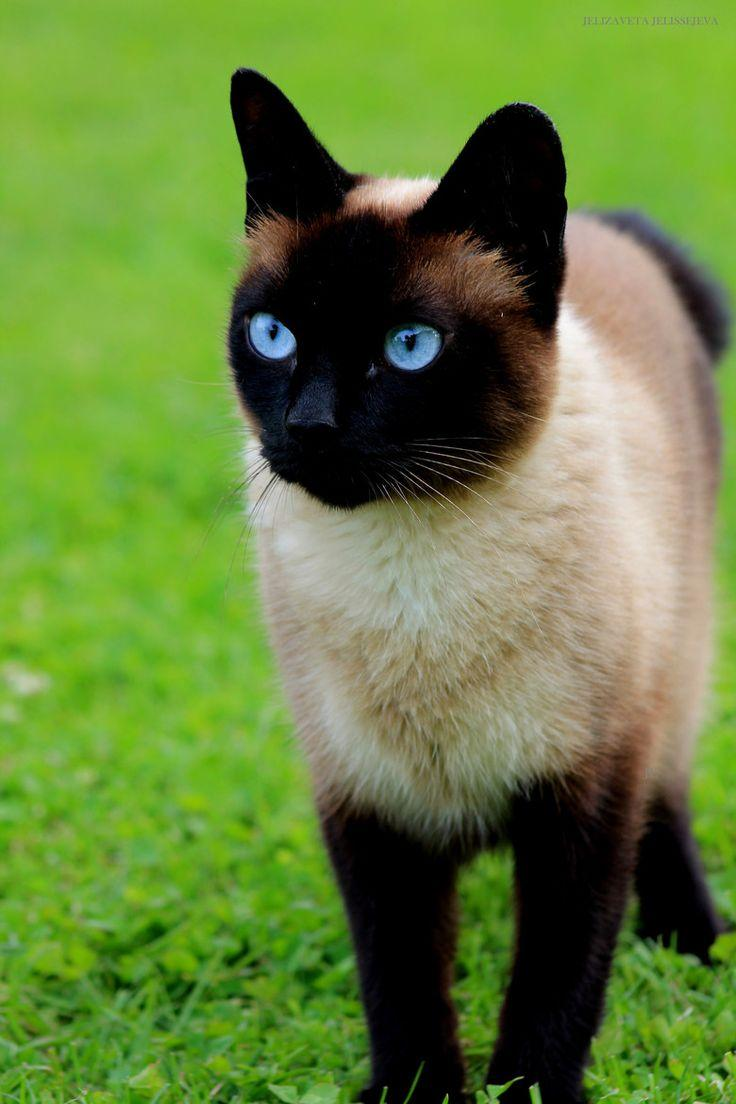siamese: (189, 66, 596, 526)
